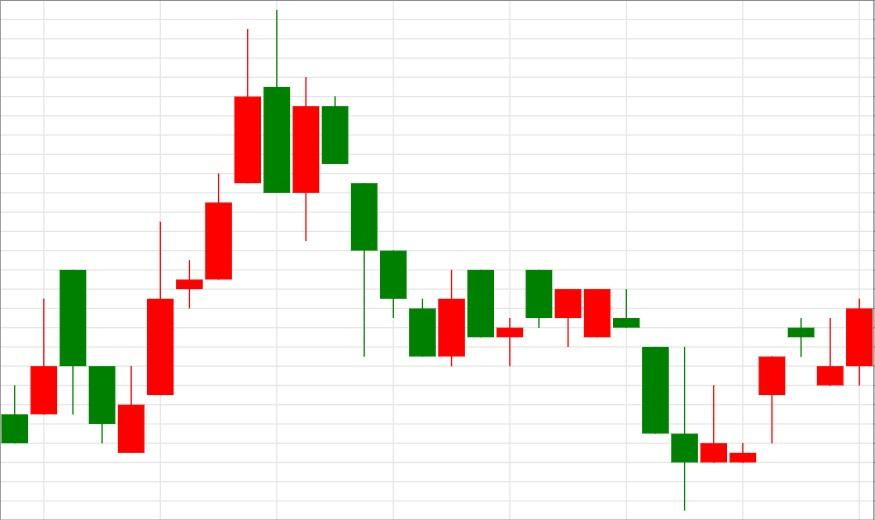bullish_engulfing_rise: (291, 76, 466, 366)
inverse_hammer_rise: (525, 269, 728, 511)
three_black_crows_fall: (117, 9, 408, 454)
